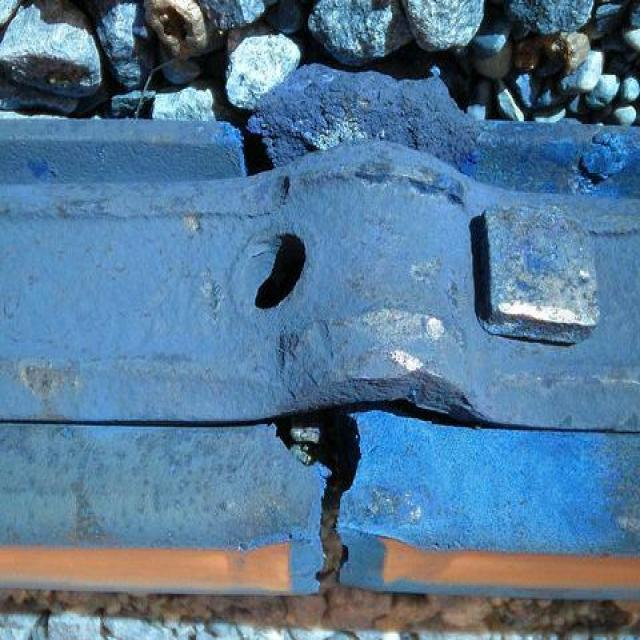Defective Joint: (0, 142, 639, 576)
